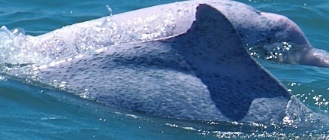fin: (18, 3, 314, 127)
